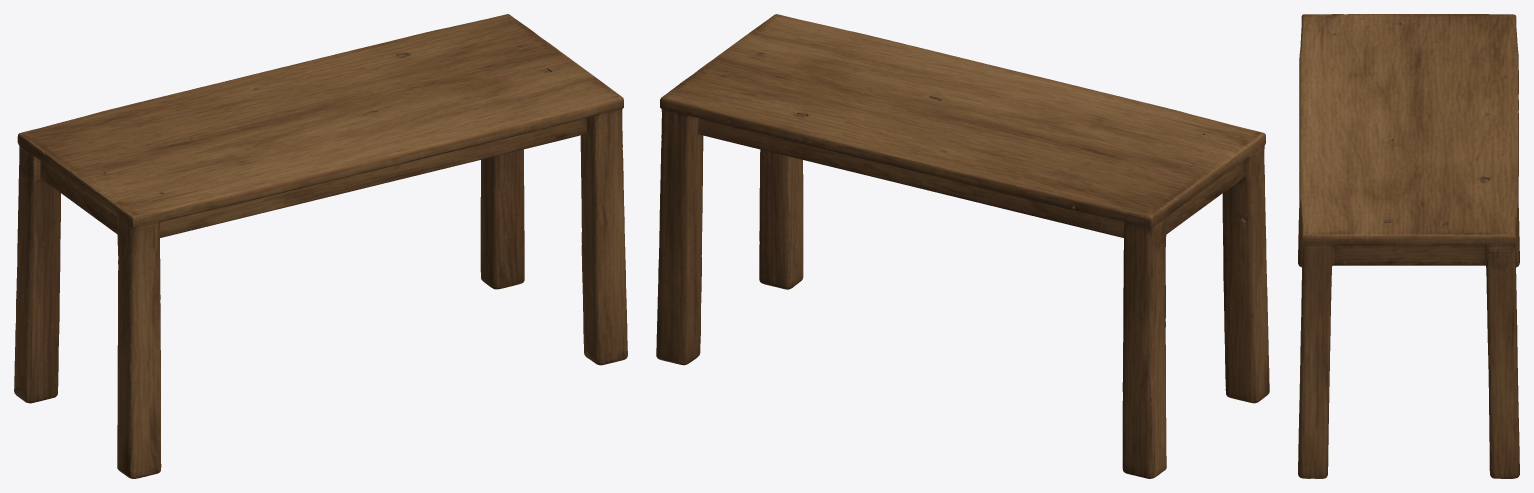
Rendered from L_DINING.glb.
3 renders of one model, left to right at view 1: azimuth 30°, elevation 25°; view 2: azimuth 150°, elevation 25°; view 3: azimuth 270°, elevation 25°, orthographic. The views are drawn at different scales.
Visible parts, largest first — view 1: world; view 2: world; view 3: world.
Part boxes in pixels (x1=…): world: x1=14, y1=14, x2=627, y2=478; world: x1=656, y1=14, x2=1269, y2=478; world: x1=1298, y1=14, x2=1519, y2=478.
Bounding box in the file's own units: 1.8 × 0.9039 × 0.7475.
1 material, 1 textured.
